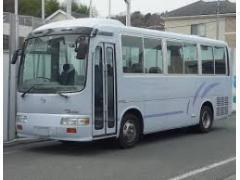bus: (12, 19, 230, 146)
